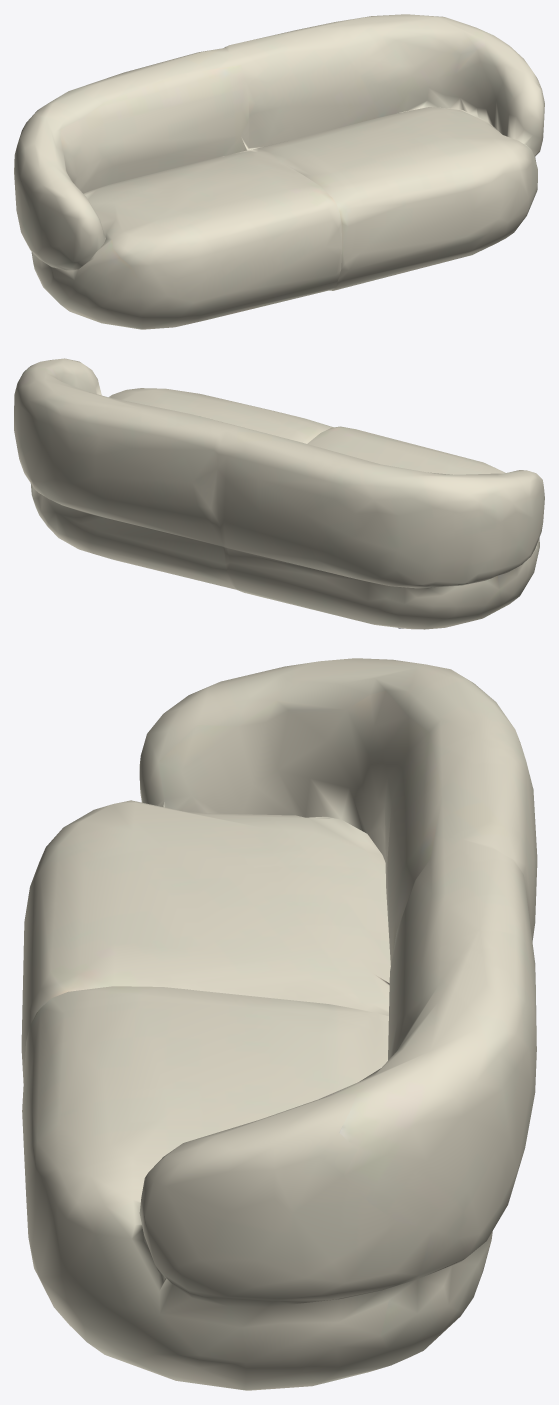
3 renders of one model, top to bottom at view 1: azimuth 30°, elevation 25°; view 2: azimuth 150°, elevation 25°; view 3: azimuth 270°, elevation 25°, orthographic. The views are drawn at different scales.
Parts seen in each view (by area): view 1: ProcessedMeshNode; view 2: ProcessedMeshNode; view 3: ProcessedMeshNode.
Boxes of the visible parts, x1,y1,x2,y2 form: ProcessedMeshNode: (14,14,544,329); ProcessedMeshNode: (14,358,544,629); ProcessedMeshNode: (21,658,537,1390).
Bounding box in the file's own units: 2.02 × 0.6904 × 0.9006.
Materials: 1 (1 with a texture image).
